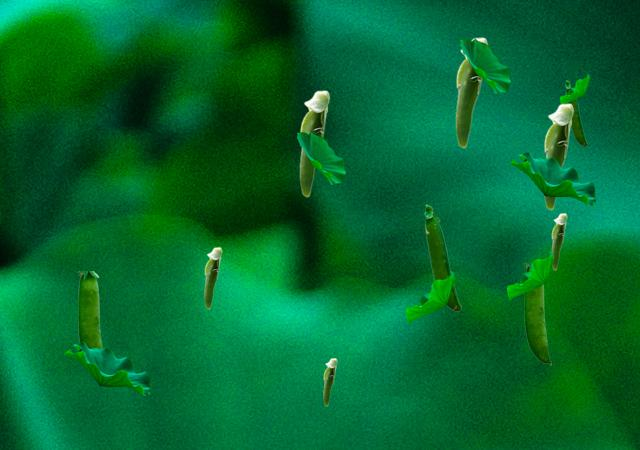pea: (424, 204, 460, 310), (455, 37, 487, 147), (299, 90, 329, 196), (543, 103, 573, 209), (524, 263, 550, 364), (78, 271, 102, 347), (565, 80, 586, 145), (204, 247, 221, 308), (551, 213, 566, 269), (323, 358, 336, 405)
